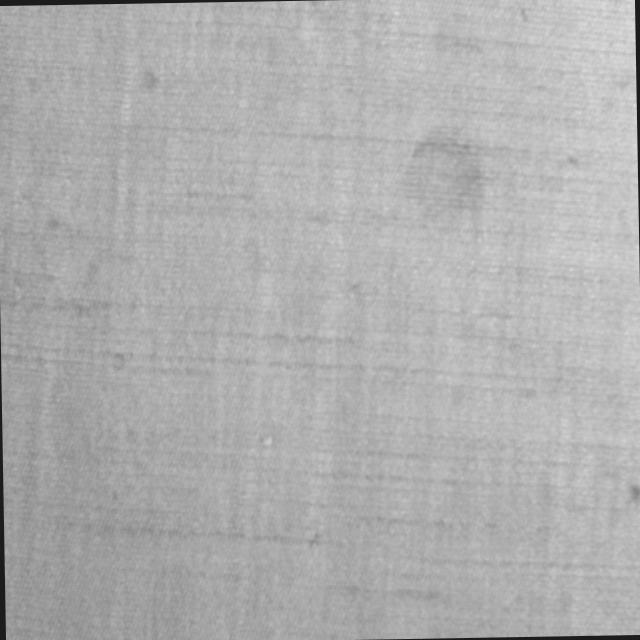oil spot: (401, 121, 487, 241)
